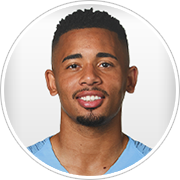face: (42, 43, 141, 127)
